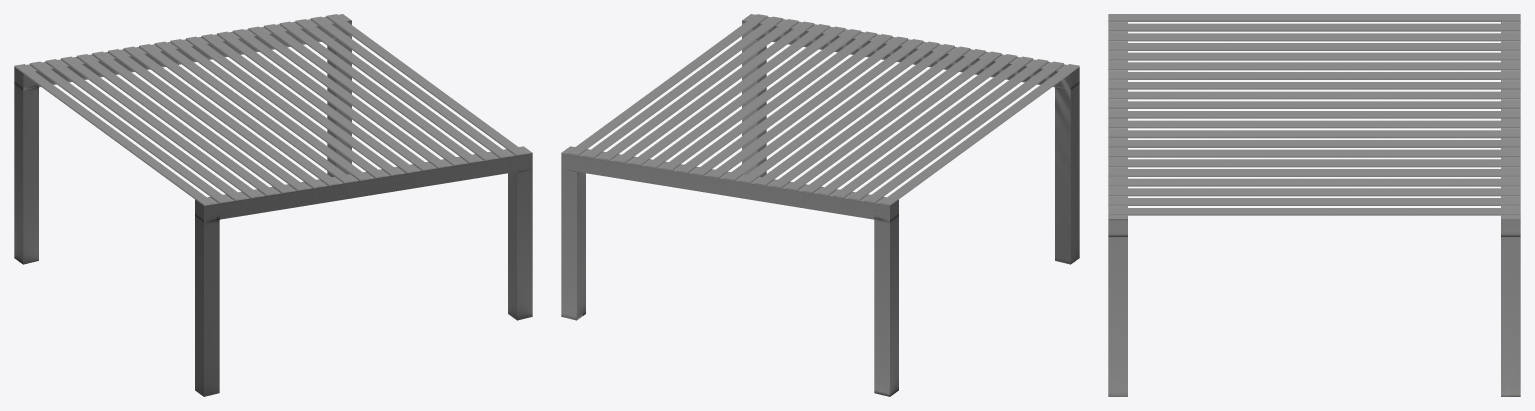
File: scenabaked.gltf
The picture shows the model from 3 angles, left to right: view 1: azimuth 30°, elevation 25°; view 2: azimuth 150°, elevation 25°; view 3: azimuth 270°, elevation 25°; orthographic projection. The views are drawn at different scales.
Visible parts, largest first — view 1: Plane.001, Cube.001; view 2: Plane.001, Cube.001; view 3: Plane.001, Cube.001.
Part boxes in pixels (x1,y1,x2,y2): Plane.001: [14, 14, 526, 205]; Cube.001: [14, 14, 532, 396]; Plane.001: [567, 14, 1079, 205]; Cube.001: [561, 14, 1079, 396]; Plane.001: [1108, 14, 1520, 215]; Cube.001: [1108, 21, 1520, 396].
Size of what is drawn, in the model's own units: 6.3 by 3.52 by 6.3.
2 materials, 2 textured.
